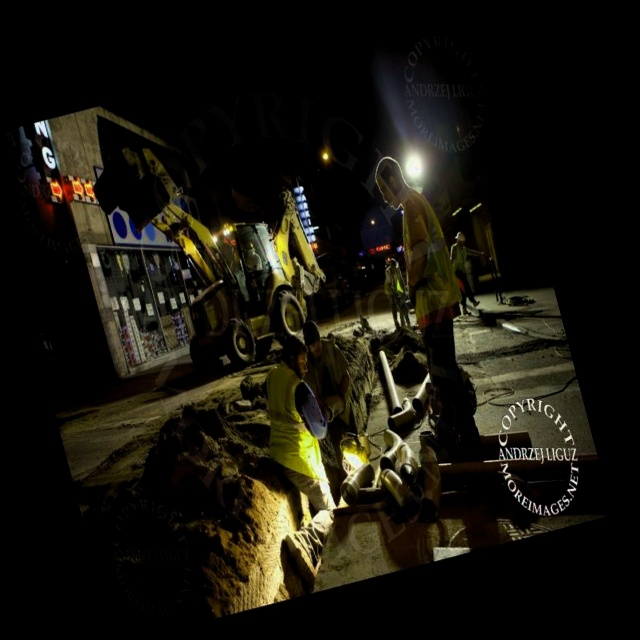Con_Chaleco: (387, 192, 468, 321), (255, 370, 331, 486)
